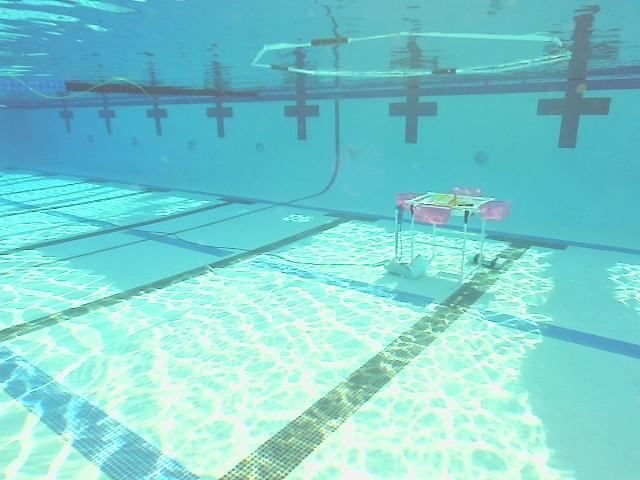table: (394, 186, 512, 281)
